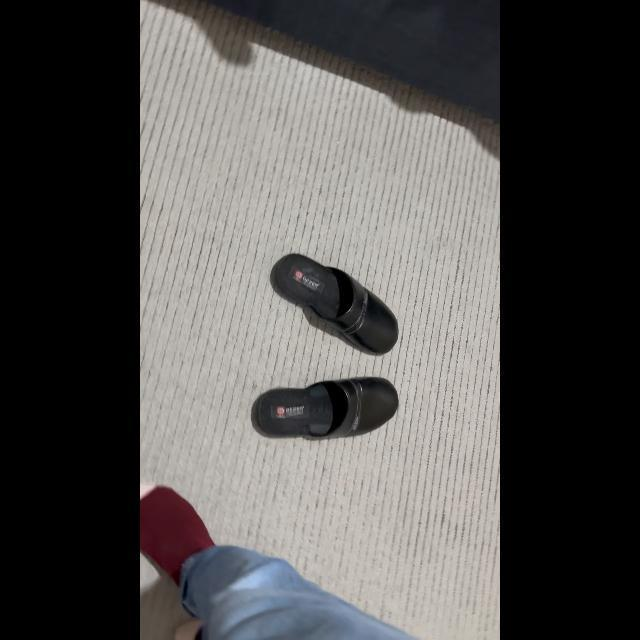slipper: (266, 250, 406, 354), (249, 366, 403, 446)
